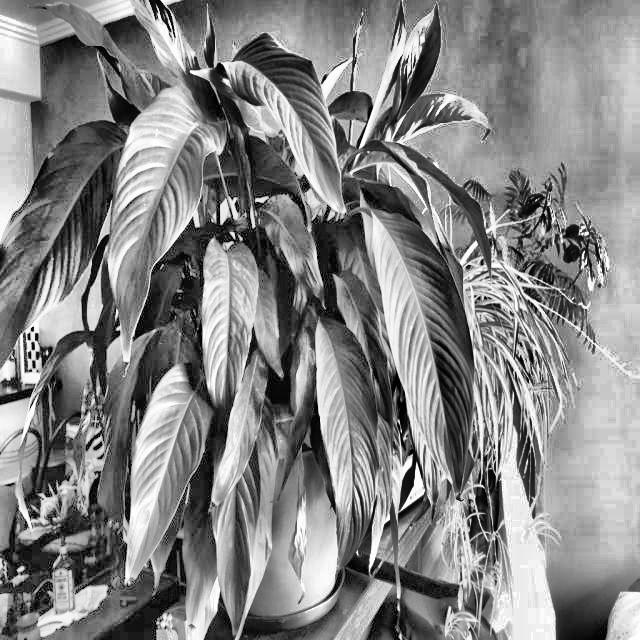plants: (8, 20, 488, 640), (369, 448, 432, 639), (104, 198, 156, 402), (162, 536, 225, 640), (292, 454, 318, 610)
